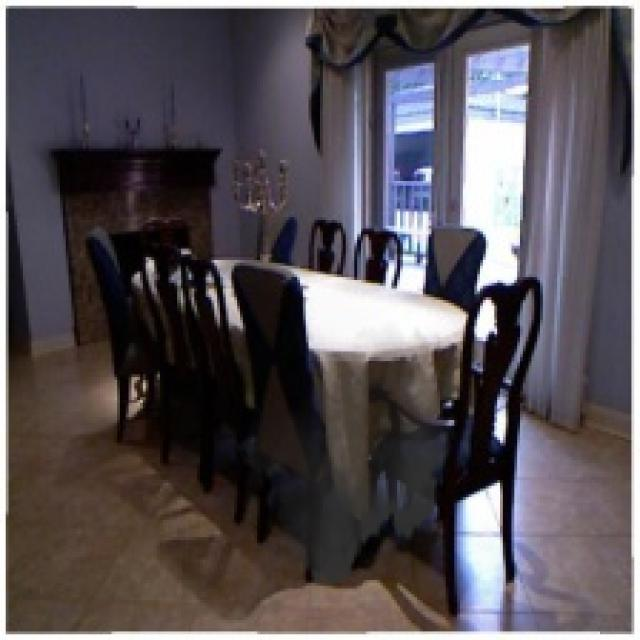smoke: (234, 314, 457, 597)
